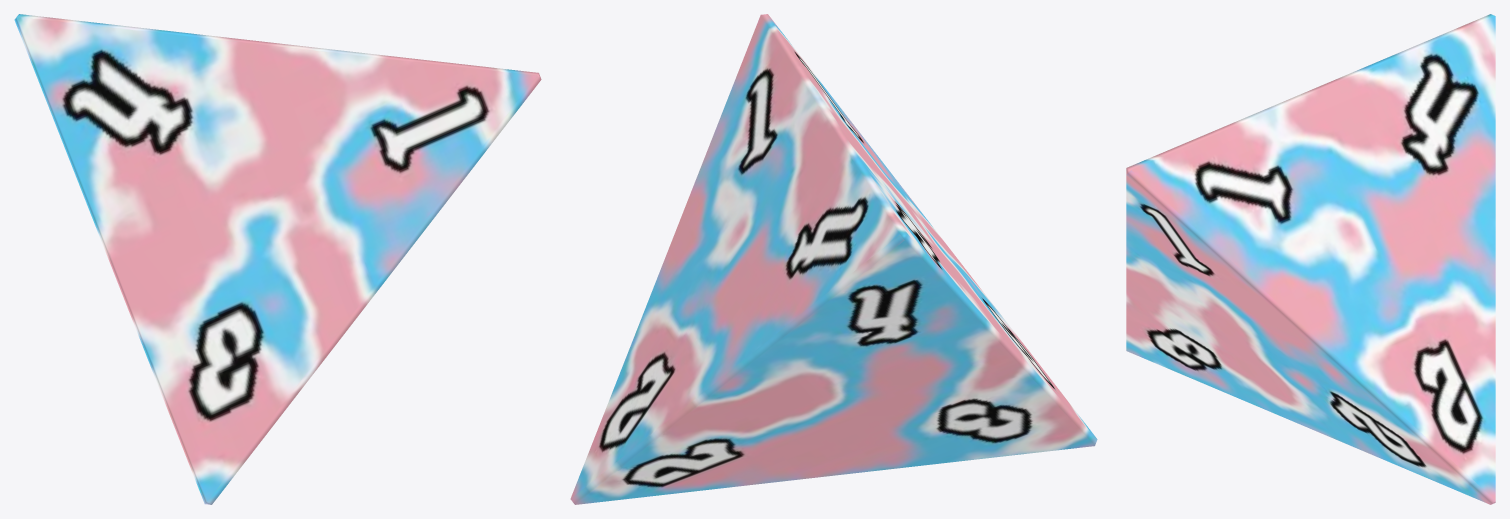
File: trans_d4.glb
The picture shows the model from 3 angles, left to right: view 1: azimuth 30°, elevation 25°; view 2: azimuth 150°, elevation 25°; view 3: azimuth 270°, elevation 25°; orthographic projection. The views are drawn at different scales.
Visible parts, largest first — view 1: D4; view 2: D4; view 3: D4.
Boxes of the visible parts, x1,y1,x2,y2 form: D4: [14, 14, 541, 504]; D4: [570, 14, 1097, 504]; D4: [1126, 14, 1495, 504].
Size of the model in its own units: 135 by 135 by 135.
1 material, 1 textured.
